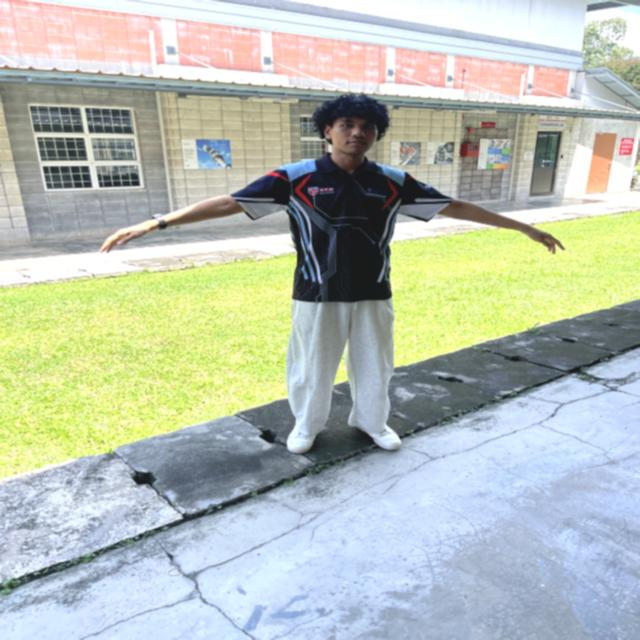person_without_labcoat: (101, 95, 563, 454)
